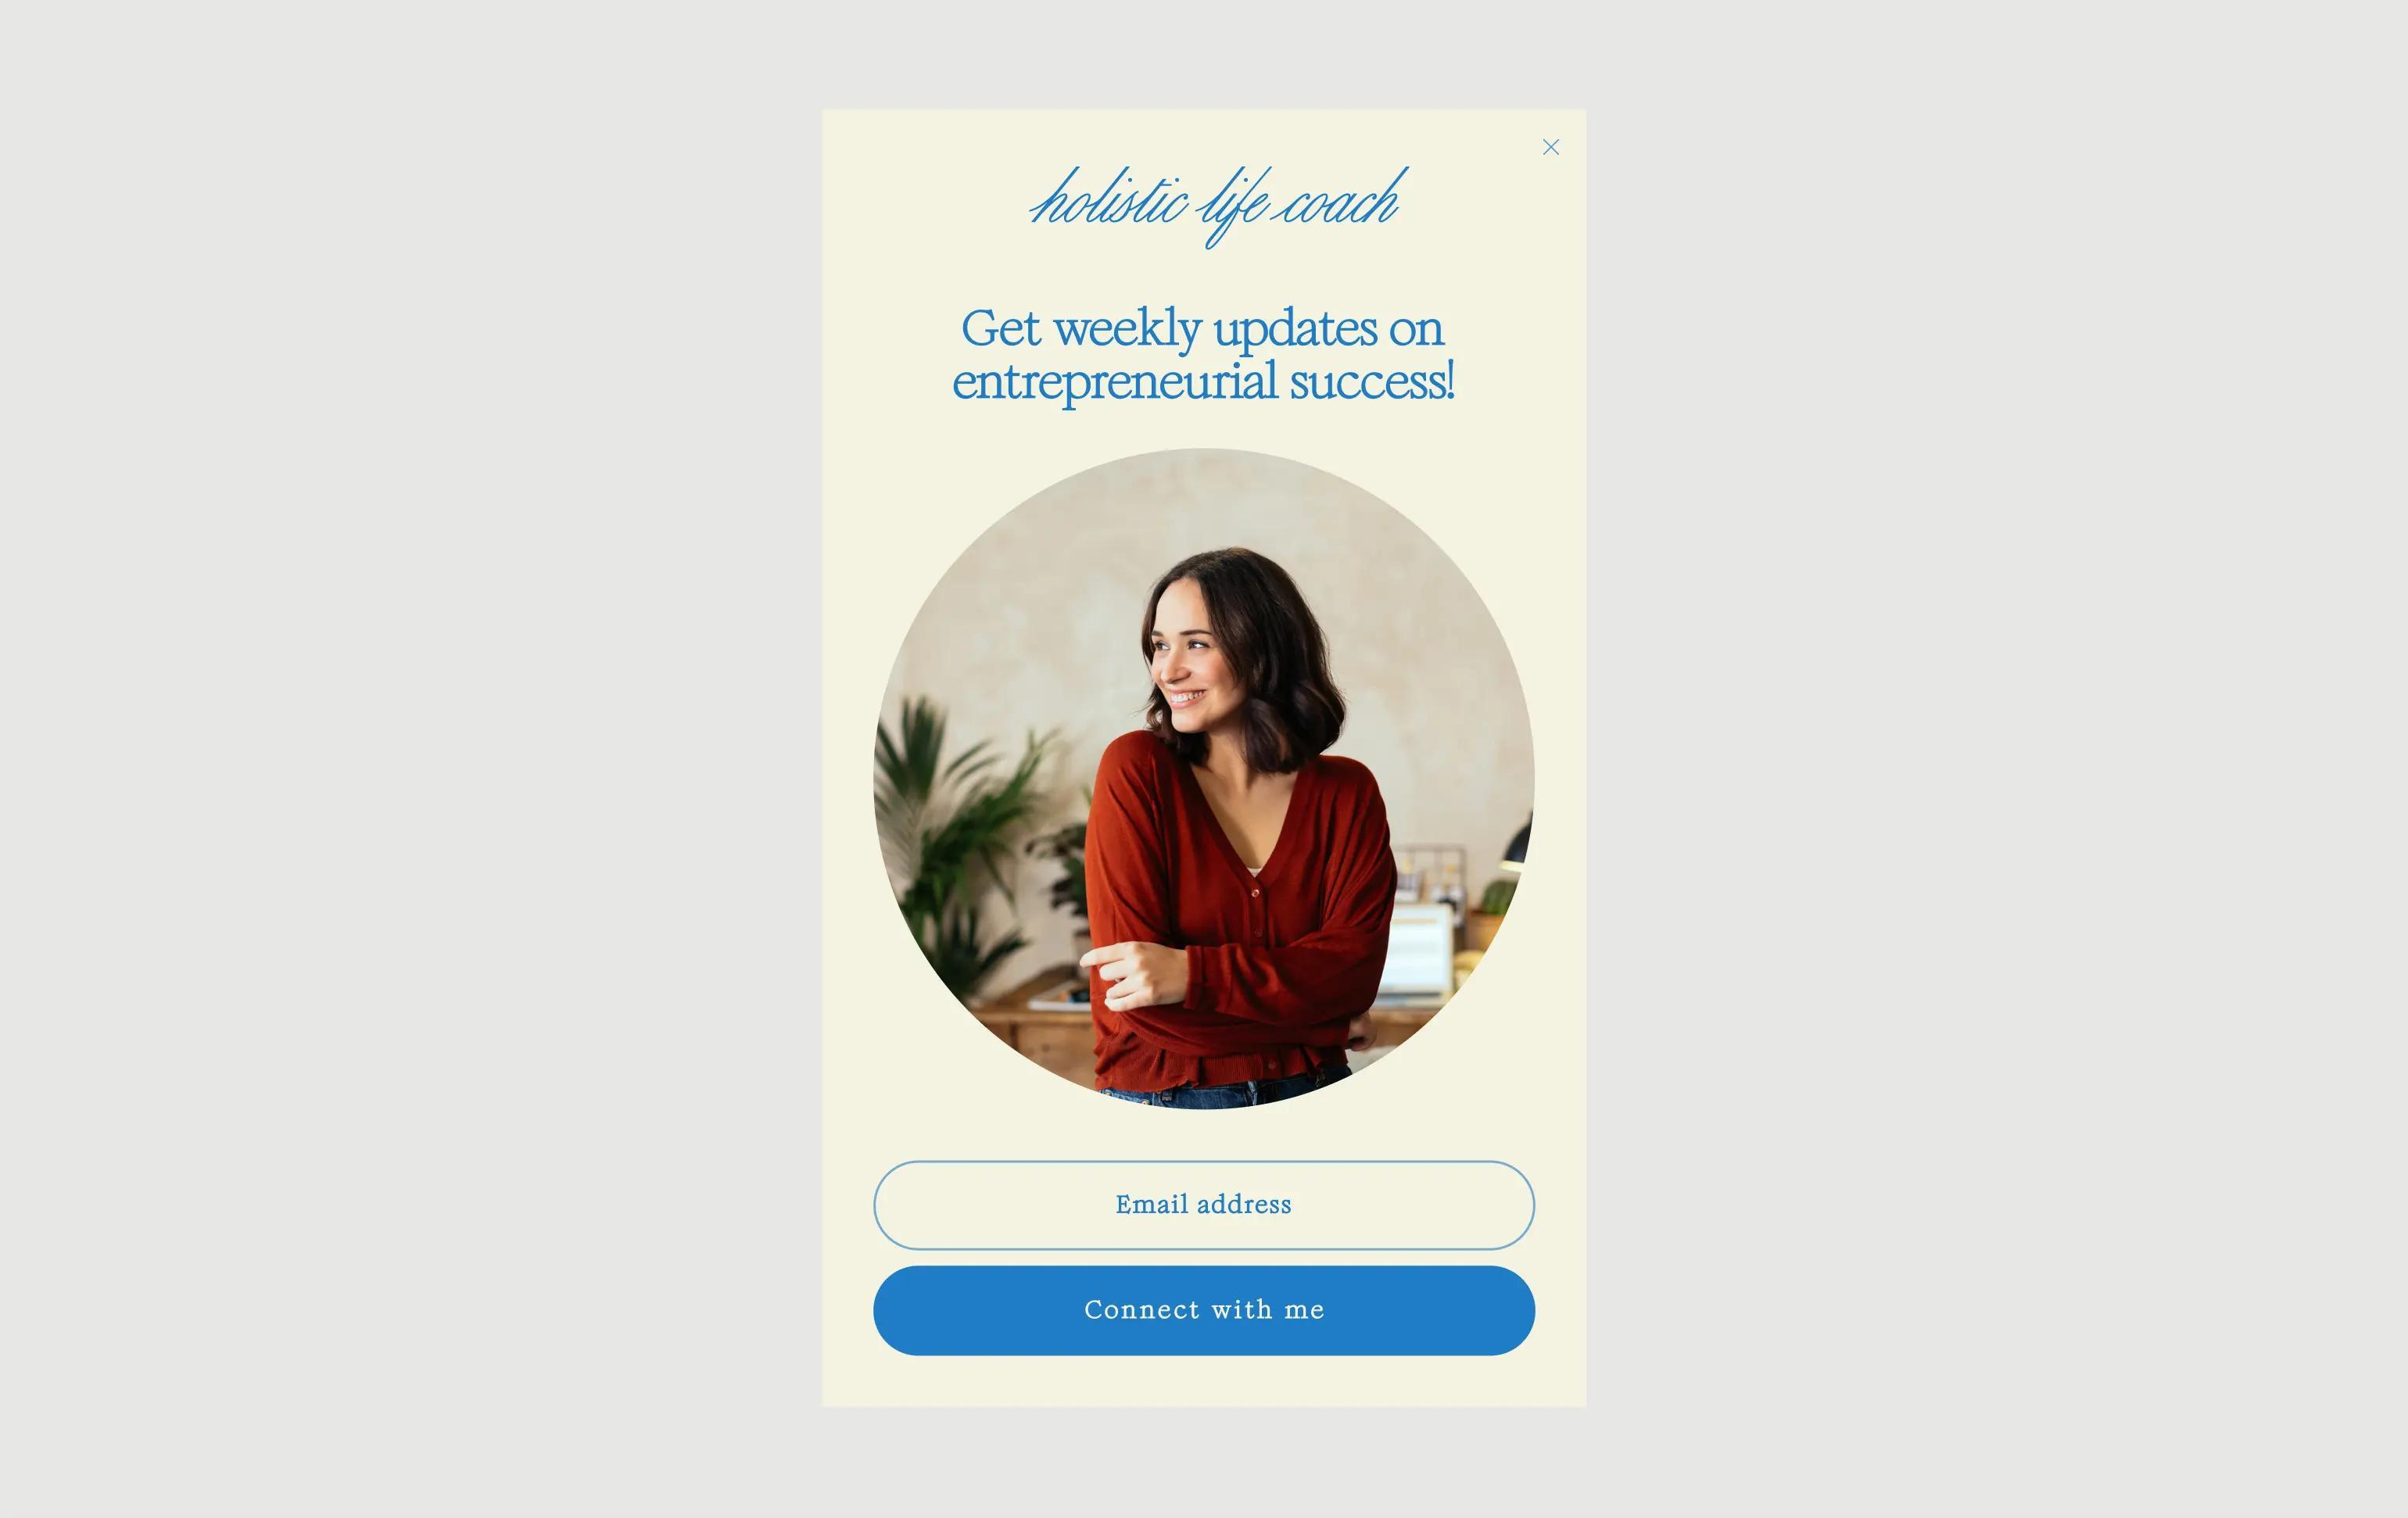button: (871, 1158, 1541, 1254), (874, 1264, 1537, 1359)
